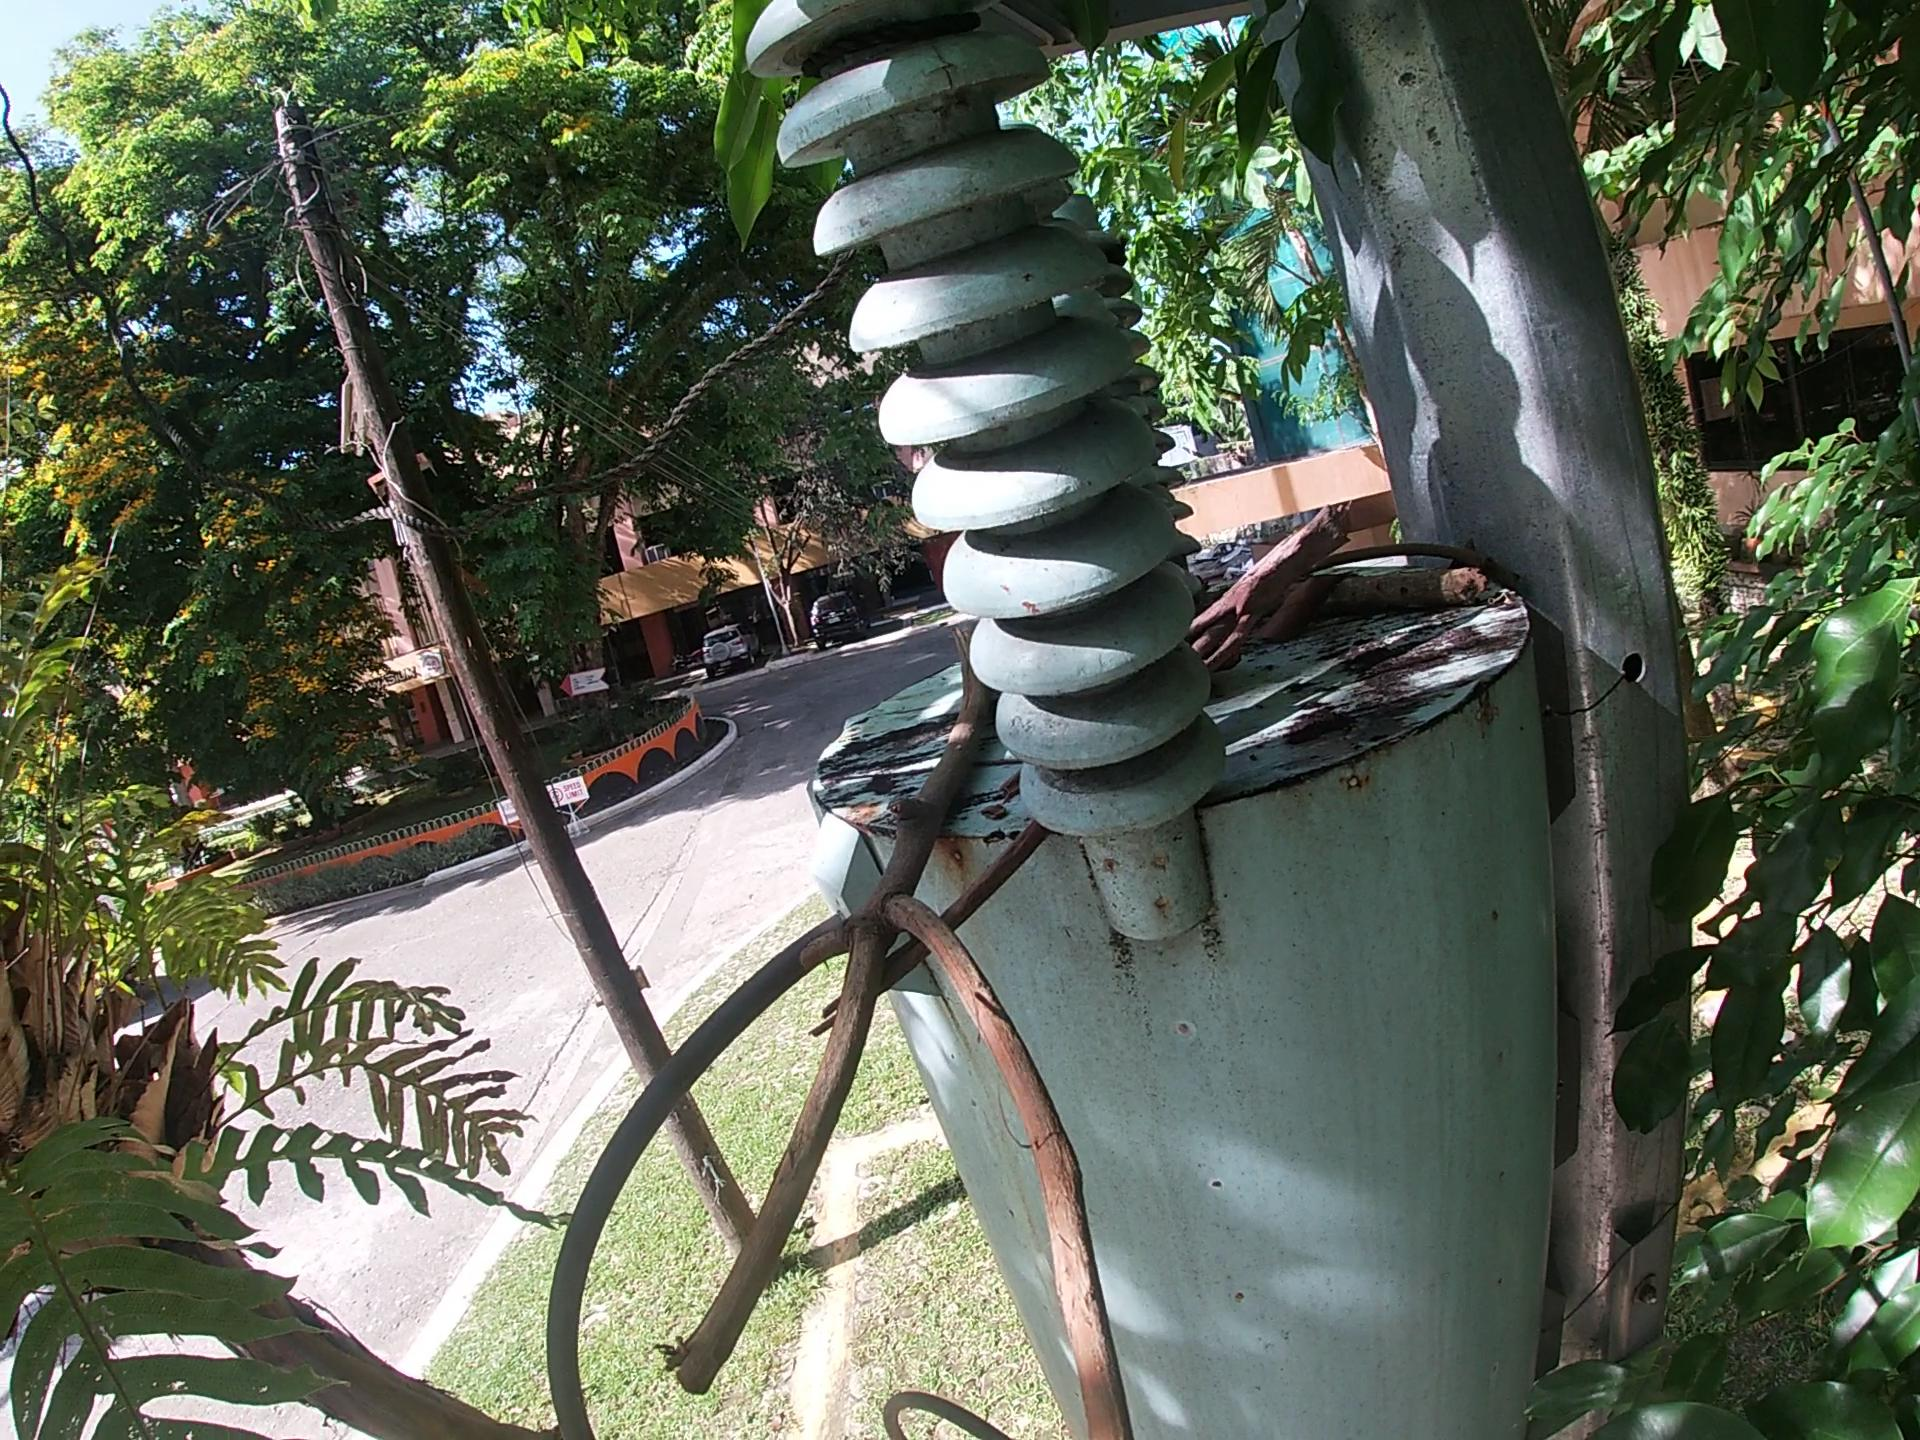leaf: (1268, 561, 1355, 641)
tree branch: (639, 622, 1178, 1440), (803, 827, 1051, 1035), (1194, 495, 1358, 663), (1281, 555, 1512, 629), (1320, 532, 1500, 582), (977, 753, 1014, 767)
